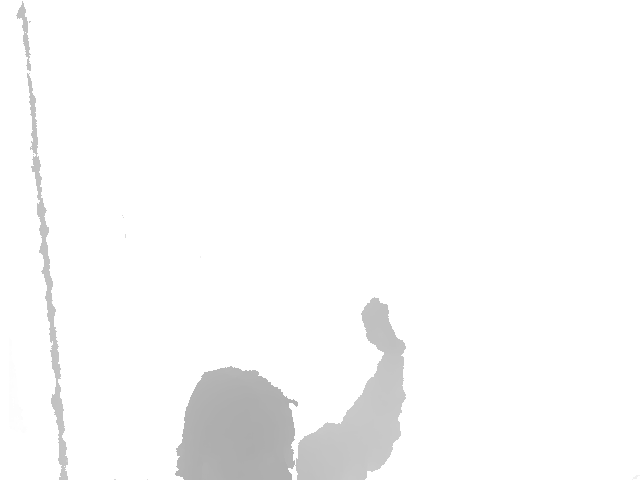hand: (360, 296, 407, 357)
head: (176, 367, 296, 480)
person: (175, 296, 408, 480)
